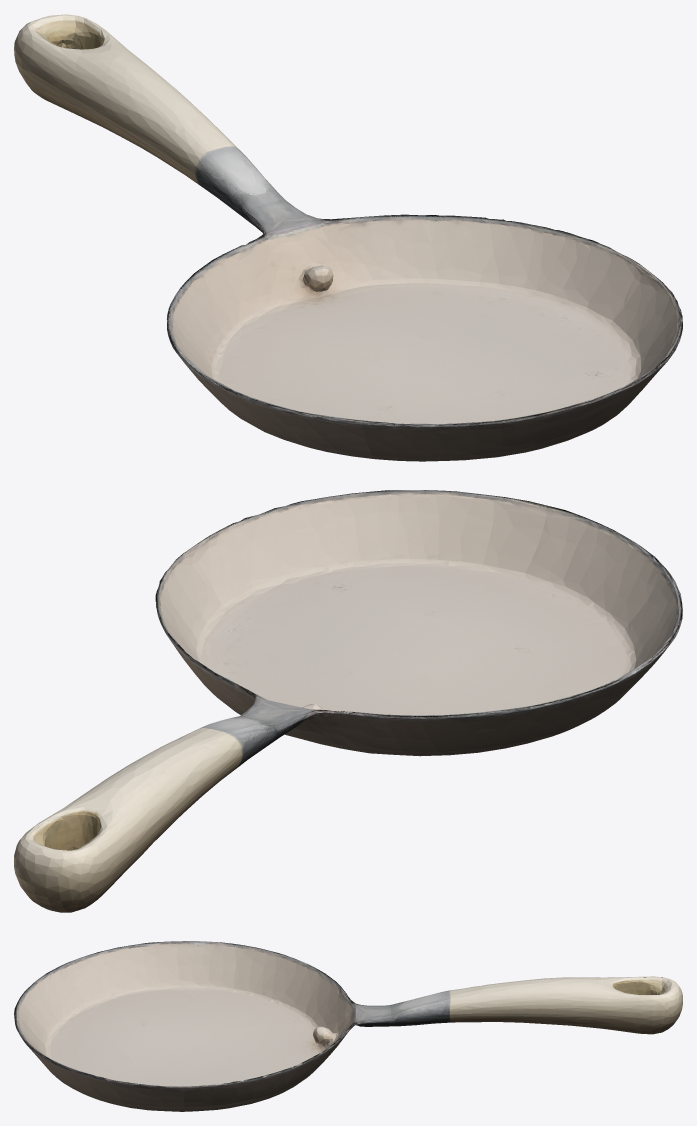
3 renders of one model, top to bottom at view 1: azimuth 30°, elevation 25°; view 2: azimuth 150°, elevation 25°; view 3: azimuth 270°, elevation 25°, orthographic. The views are drawn at different scales.
Parts seen in each view (by area): view 1: world; view 2: world; view 3: world.
Boxes of the visible parts, <box> form: world: <box>14,14,682,461</box>; world: <box>14,490,682,912</box>; world: <box>14,941,682,1111</box>.
Size of the model in its own units: 0.5115 by 0.1182 by 0.9993.
Materials: 1 (1 with a texture image).
